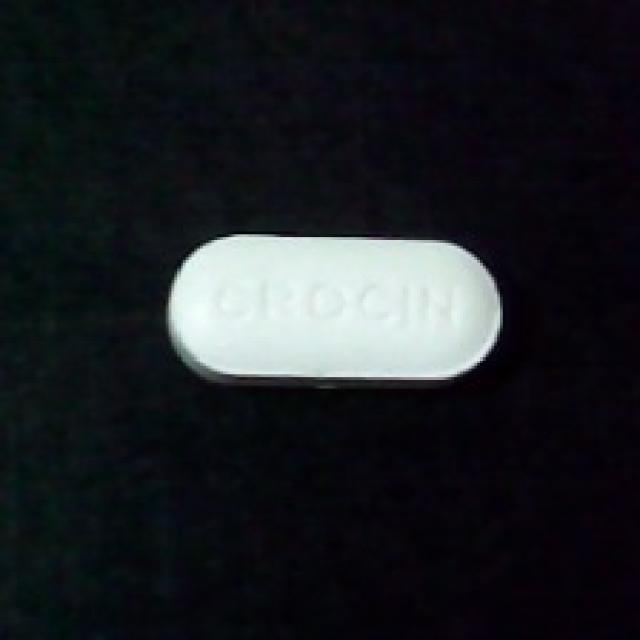no-defect: (160, 229, 511, 394)
